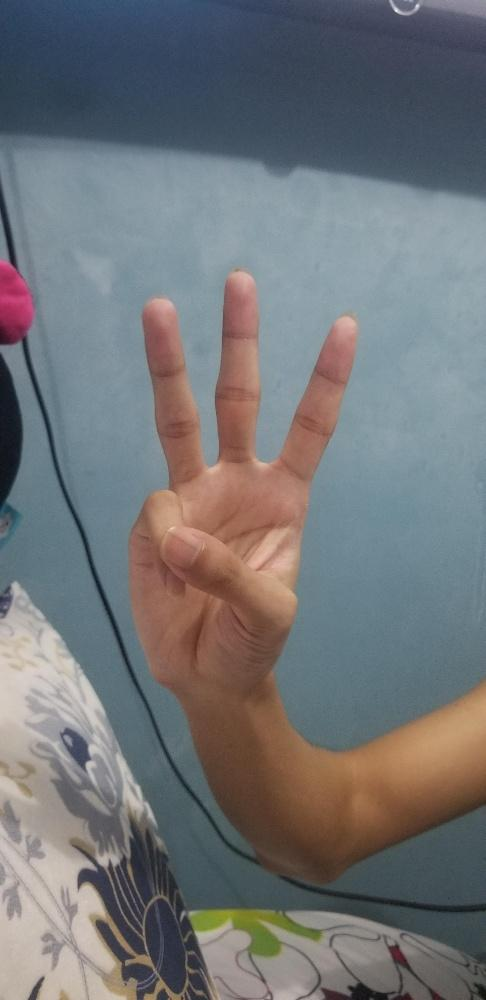w: (123, 266, 363, 694)
